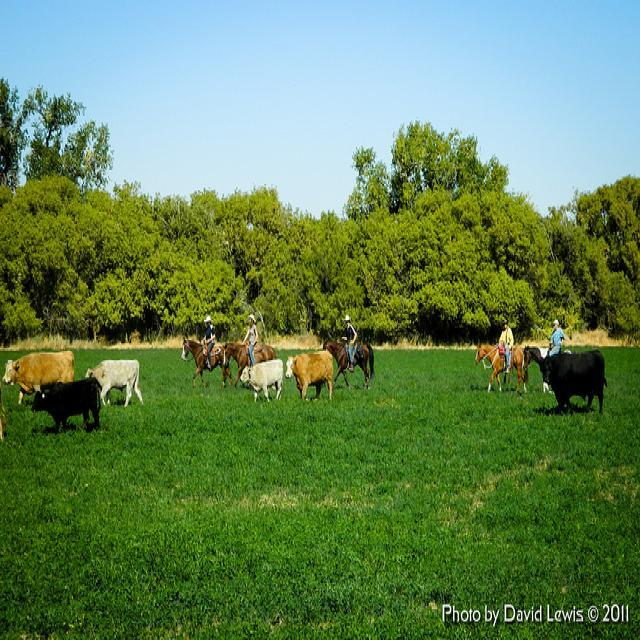cow: (539, 346, 606, 411), (1, 348, 74, 402), (30, 374, 100, 430), (84, 357, 143, 407), (284, 346, 334, 399), (238, 356, 283, 401)
